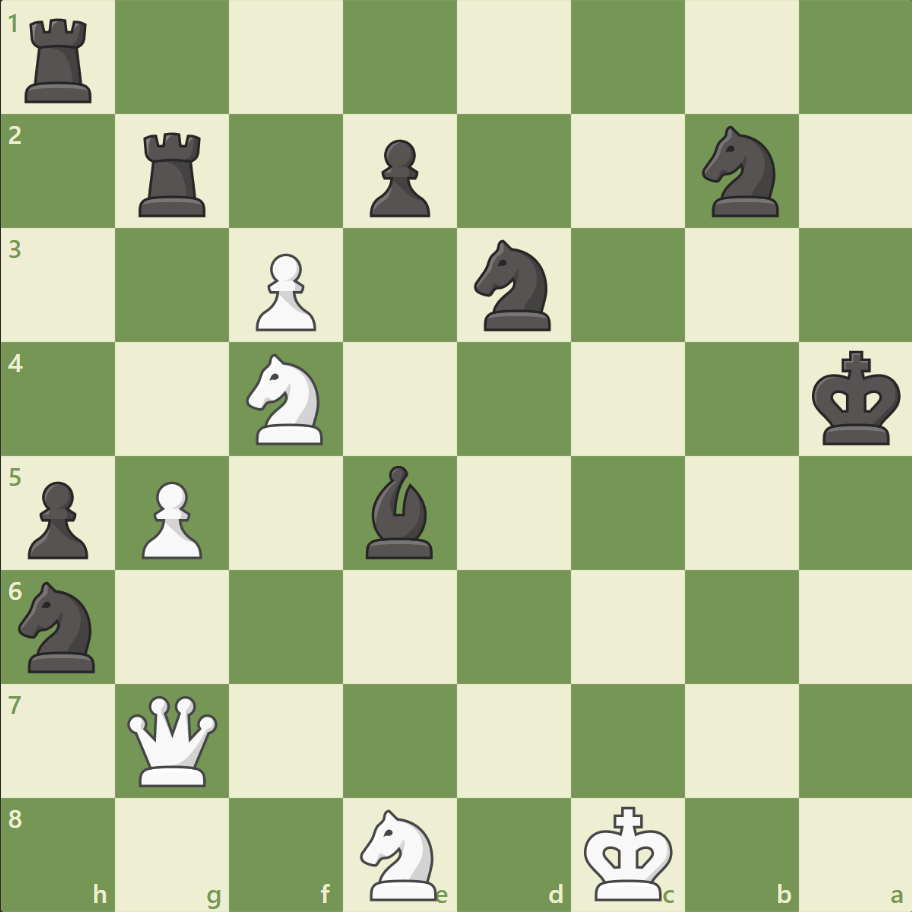K: (579, 798, 679, 906)
N: (351, 802, 449, 904), (238, 348, 335, 450)
P: (133, 473, 208, 564), (247, 246, 322, 337)
Q: (124, 690, 223, 789)
b: (358, 460, 442, 563)
k: (806, 344, 906, 452)
n: (465, 234, 562, 337), (11, 575, 108, 677), (692, 121, 789, 223)
p: (20, 473, 95, 564), (361, 132, 435, 223)
r: (19, 12, 102, 109), (133, 125, 215, 222)
